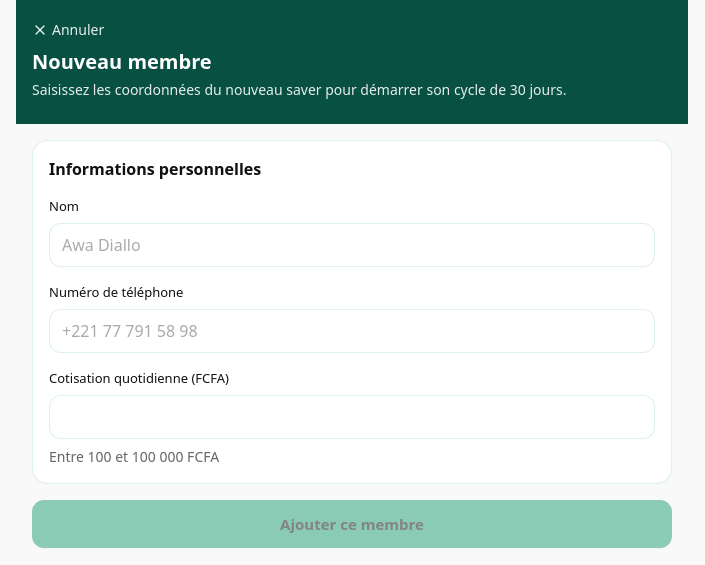
Test: MemberForm — create mode › shows error when amount is below the 100 FCFA floor
Step 1. Type "50" into the number field labelled "Cotisation quotidienne (FCFA)" → {"x": 352, "y": 417}, box [49,395,655,439]
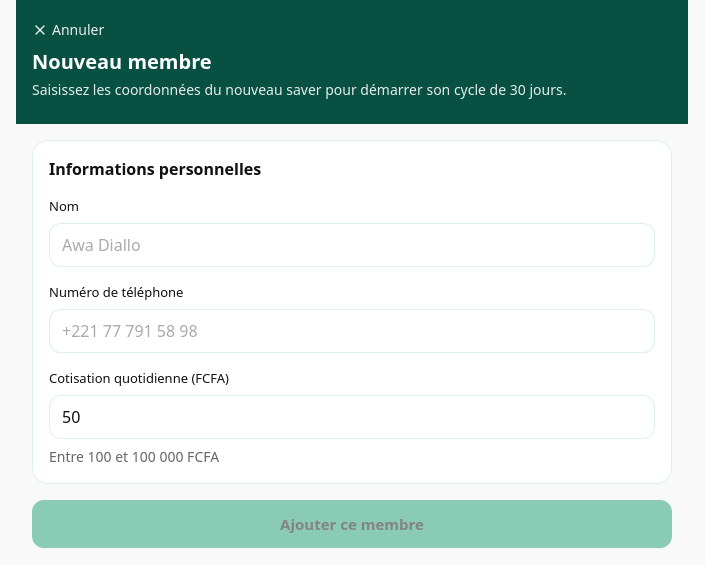
Step 2. Leave the number field labelled "Cotisation quotidienne (FCFA)", box [49,395,655,439]
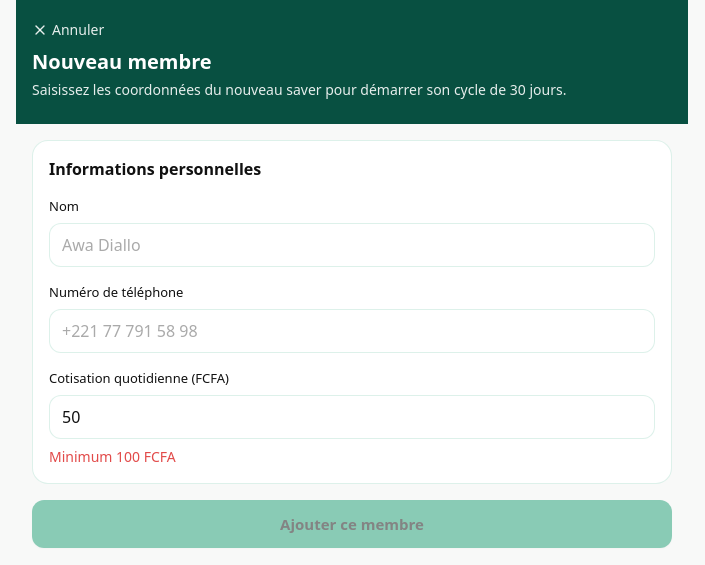
Now the text "Minimum 100 FCFA" is shown, box [49,447,176,466]
